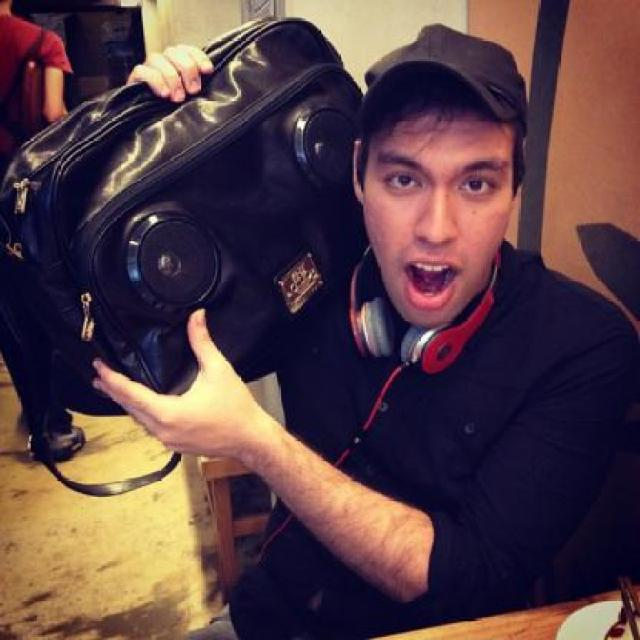earphone: (329, 251, 506, 375)
